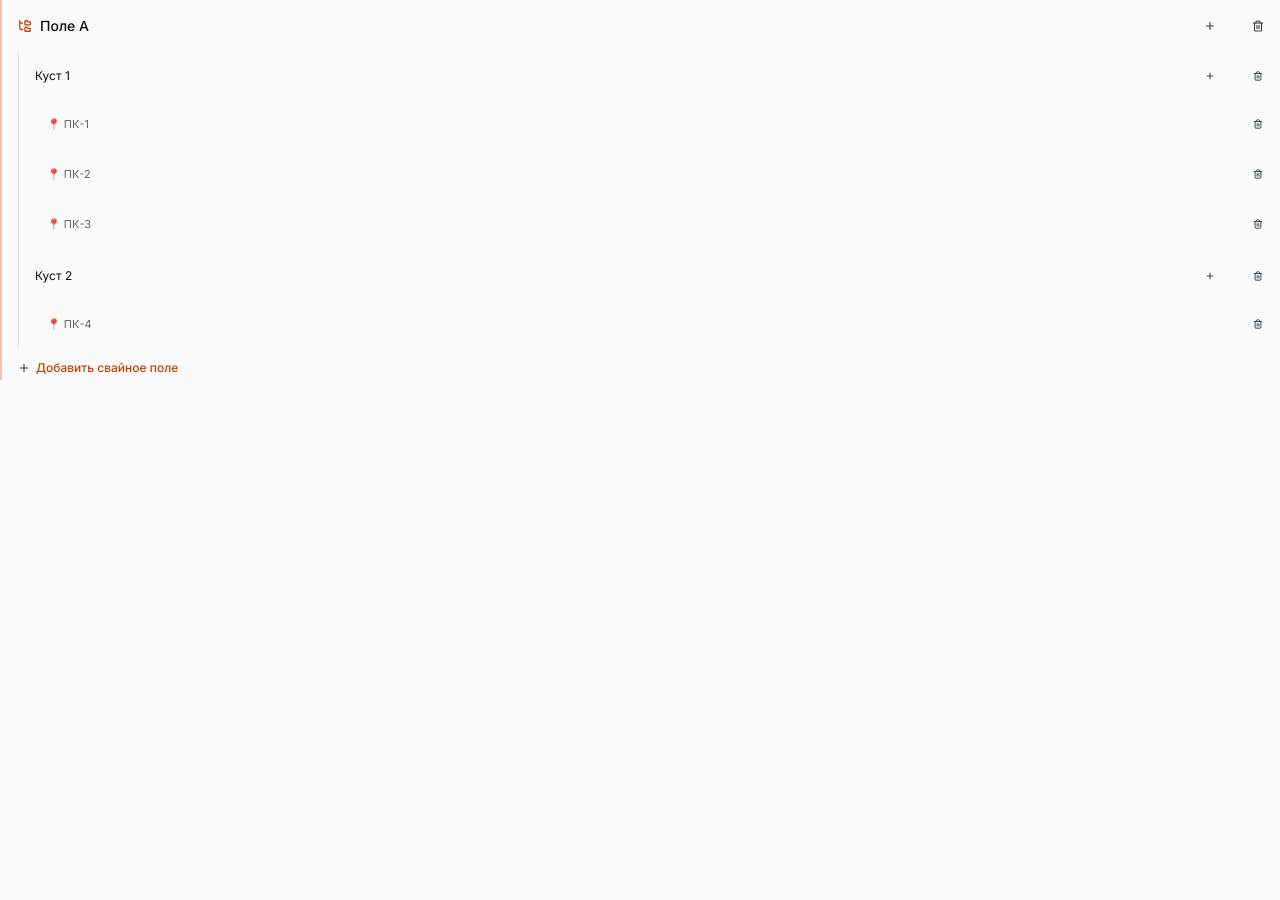
HierarchyTree — удаление узла с подтверждением (F-R113-1) › куст: окно перечисляет вложенные пикеты
Click the button named "Удалить куст" in the row of "Куст 1" at (1258,76), box [1236, 54, 1279, 98]
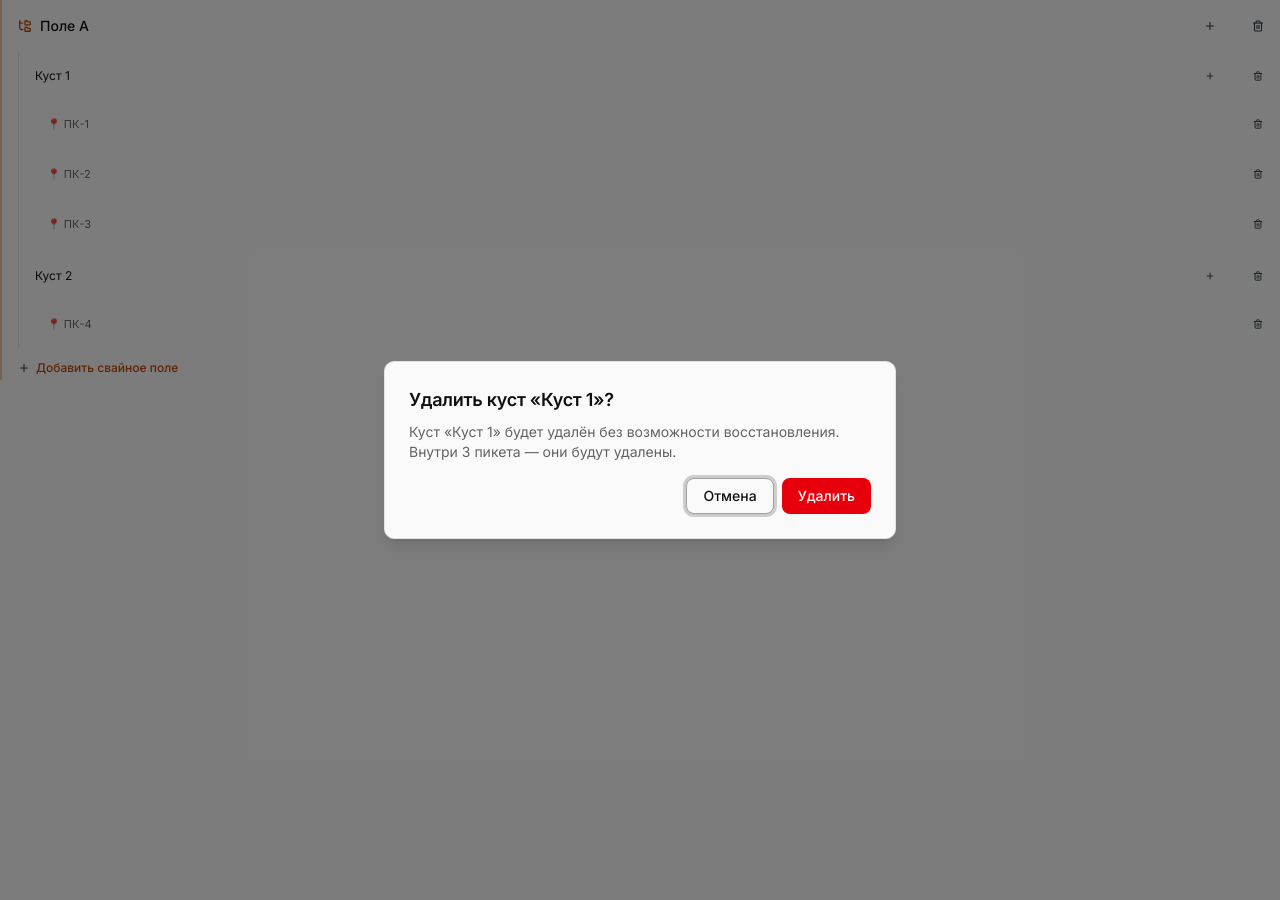
expect the heading "Удалить куст «Куст 1»?" is shown: met, box [409, 389, 614, 410]
expect the text "Внутри 3 пикета — они будут удалены" is shown: met, box [409, 423, 840, 460]
